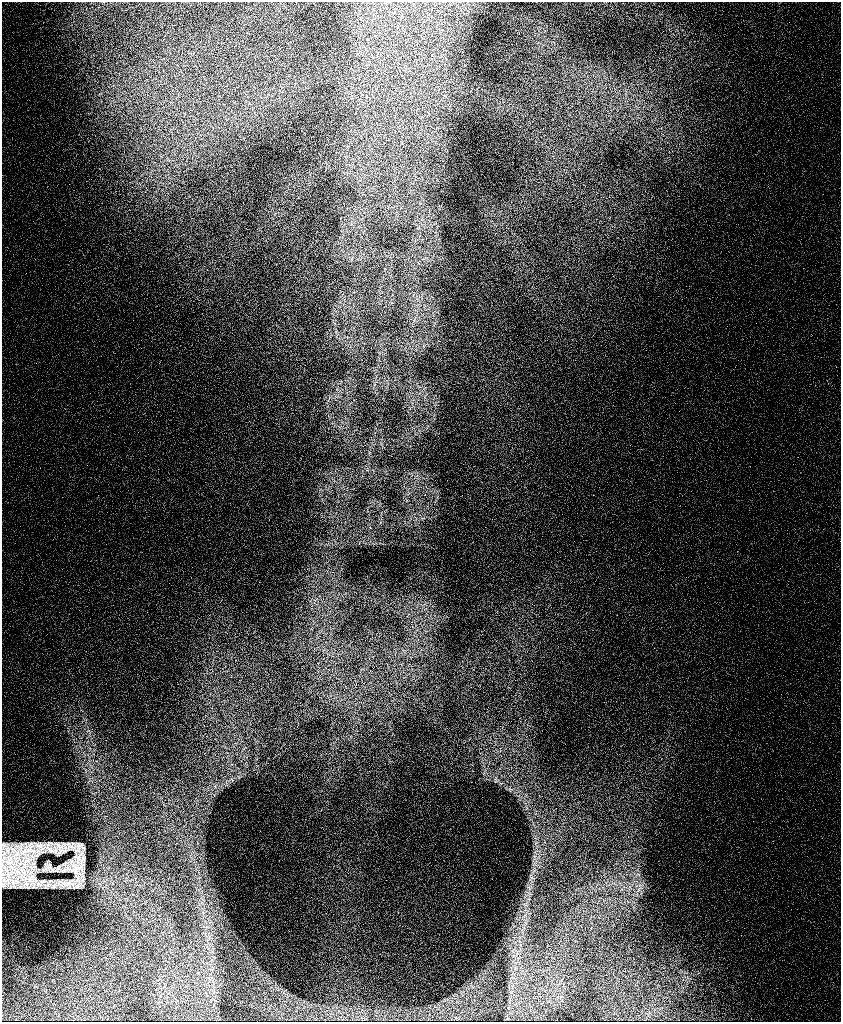lumbar scoliosis: (296, 121, 464, 673)
